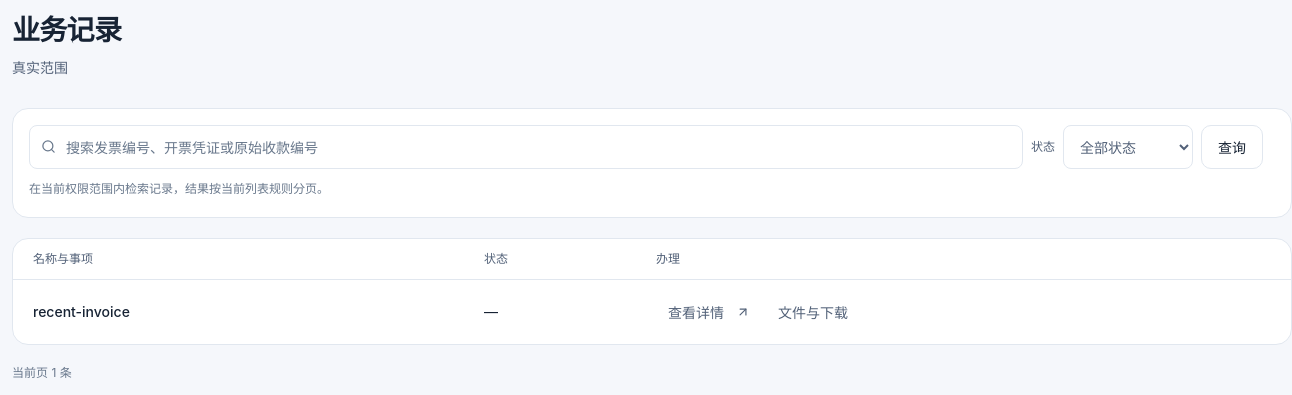
searches invoices on the server so records outside the loaded page can be found
Expected: the text "recent-invoice" is shown, x1=33 y1=303 x2=130 y2=320
Type "older-invoice" into the field with placeholder "搜索发票编号、开票凭证或原始收款编号" at (526, 147), box x1=29 y1=125 x2=1023 y2=169
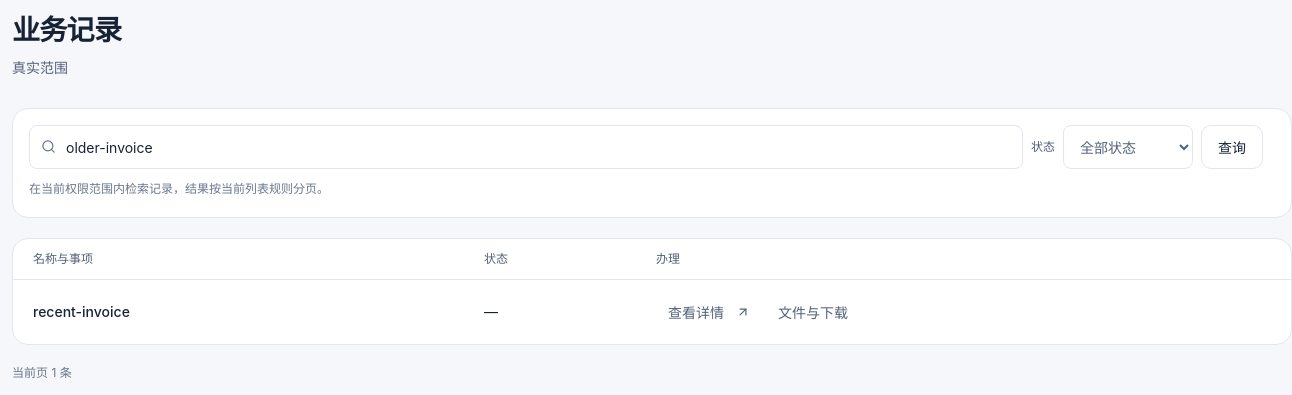
Click the button "查询" at (1232, 147), box x1=1201 y1=125 x2=1263 y2=169
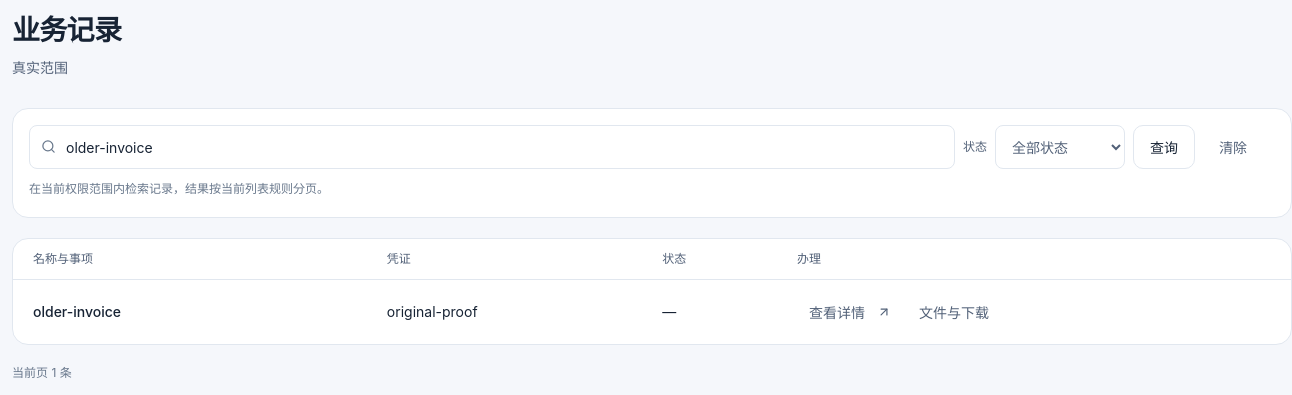
Expected: the text "在当前权限范围内检索记录，结果按当前列表规则分页。" is shown, x1=29 y1=181 x2=329 y2=196
Expected: the text "older-invoice" is shown, x1=33 y1=303 x2=121 y2=320
Expected: the text "recent-invoice" is gone
